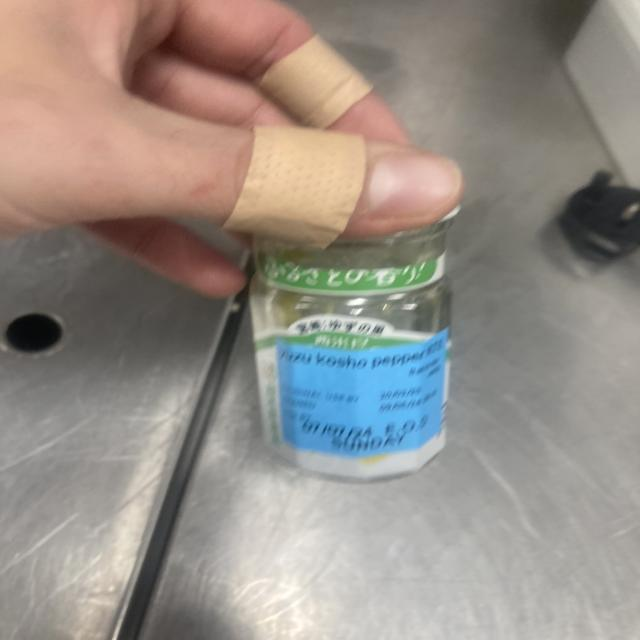product-labels: (273, 339, 457, 455)
